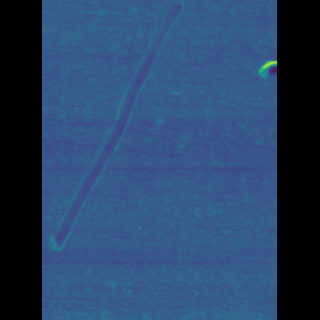Loch: (77, 0, 178, 254), (228, 55, 246, 80)
